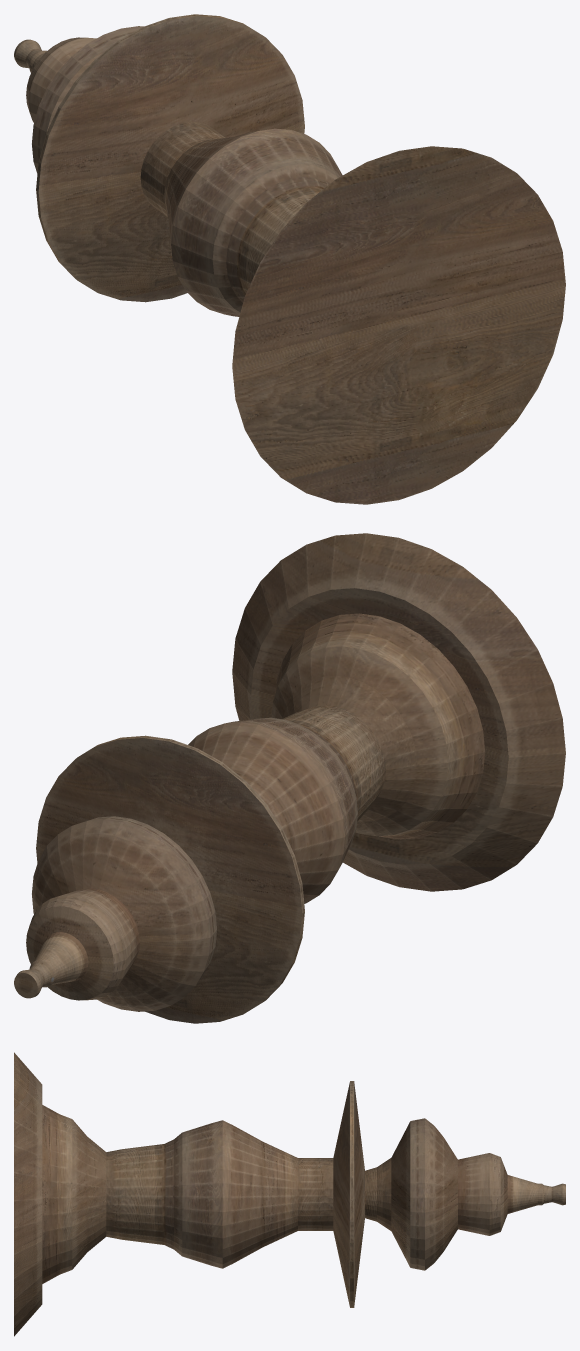
The model's file is chess_pawn.gltf.
The picture shows the model from 3 angles, top to bottom: view 1: azimuth 30°, elevation 25°; view 2: azimuth 150°, elevation 25°; view 3: azimuth 270°, elevation 25°; orthographic projection. The views are drawn at different scales.
Visible parts, largest first — view 1: Cylinder; view 2: Cylinder; view 3: Cylinder.
Boxes of the visible parts, x1,y1,x2,y2 form: Cylinder: (14, 14, 565, 504); Cylinder: (14, 533, 565, 1023); Cylinder: (14, 1052, 565, 1336).
Size of the model in its own units: 21877 by 21877 by 42367.
1 material, 1 textured.
